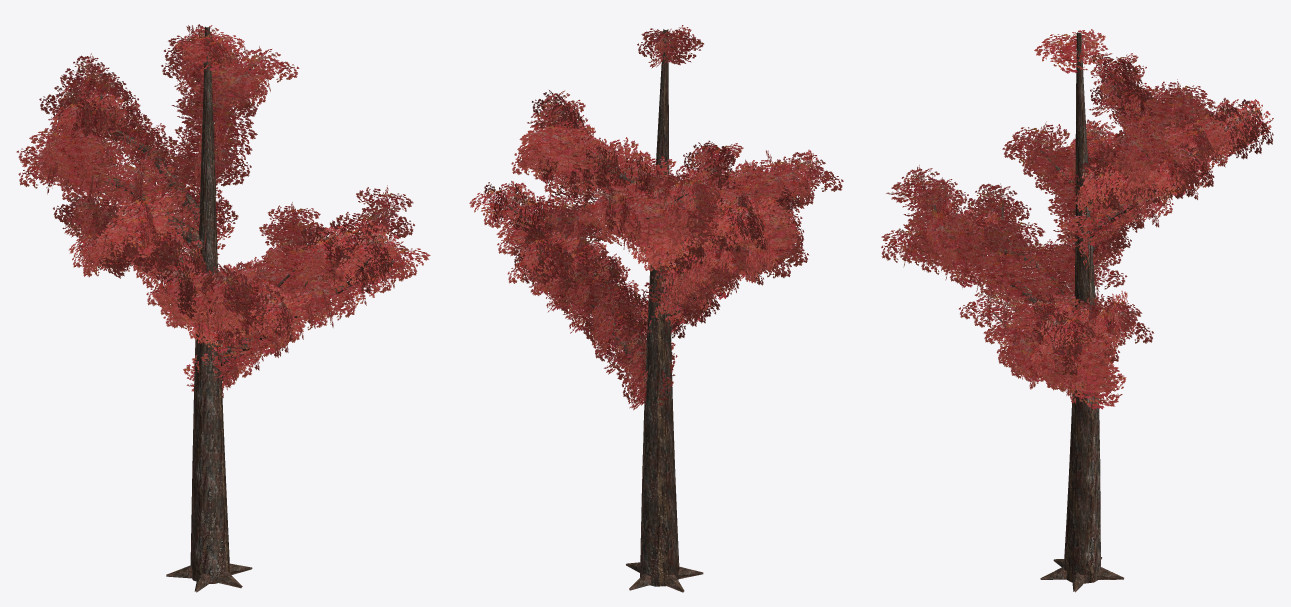
File: tree_3d_01_red_lod0.glb
The picture shows the model from 3 angles, left to right: view 1: azimuth 30°, elevation 25°; view 2: azimuth 150°, elevation 25°; view 3: azimuth 270°, elevation 25°; orthographic projection.
Visible parts, largest first — view 1: foliage_cards, wood_geometry; view 2: foliage_cards, wood_geometry; view 3: foliage_cards, wood_geometry.
Part boxes in pixels (<box>): foliage_cards: <box>16,24,430,397</box>; wood_geometry: <box>69,26,393,592</box>; foliage_cards: <box>469,25,843,410</box>; wood_geometry: <box>508,29,773,592</box>; foliage_cards: <box>881,29,1273,411</box>; wood_geometry: <box>921,32,1240,592</box>.
Bounding box in the file's own units: 6.77 × 10.07 × 6.7.
Materials: 2 (2 with a texture image).
